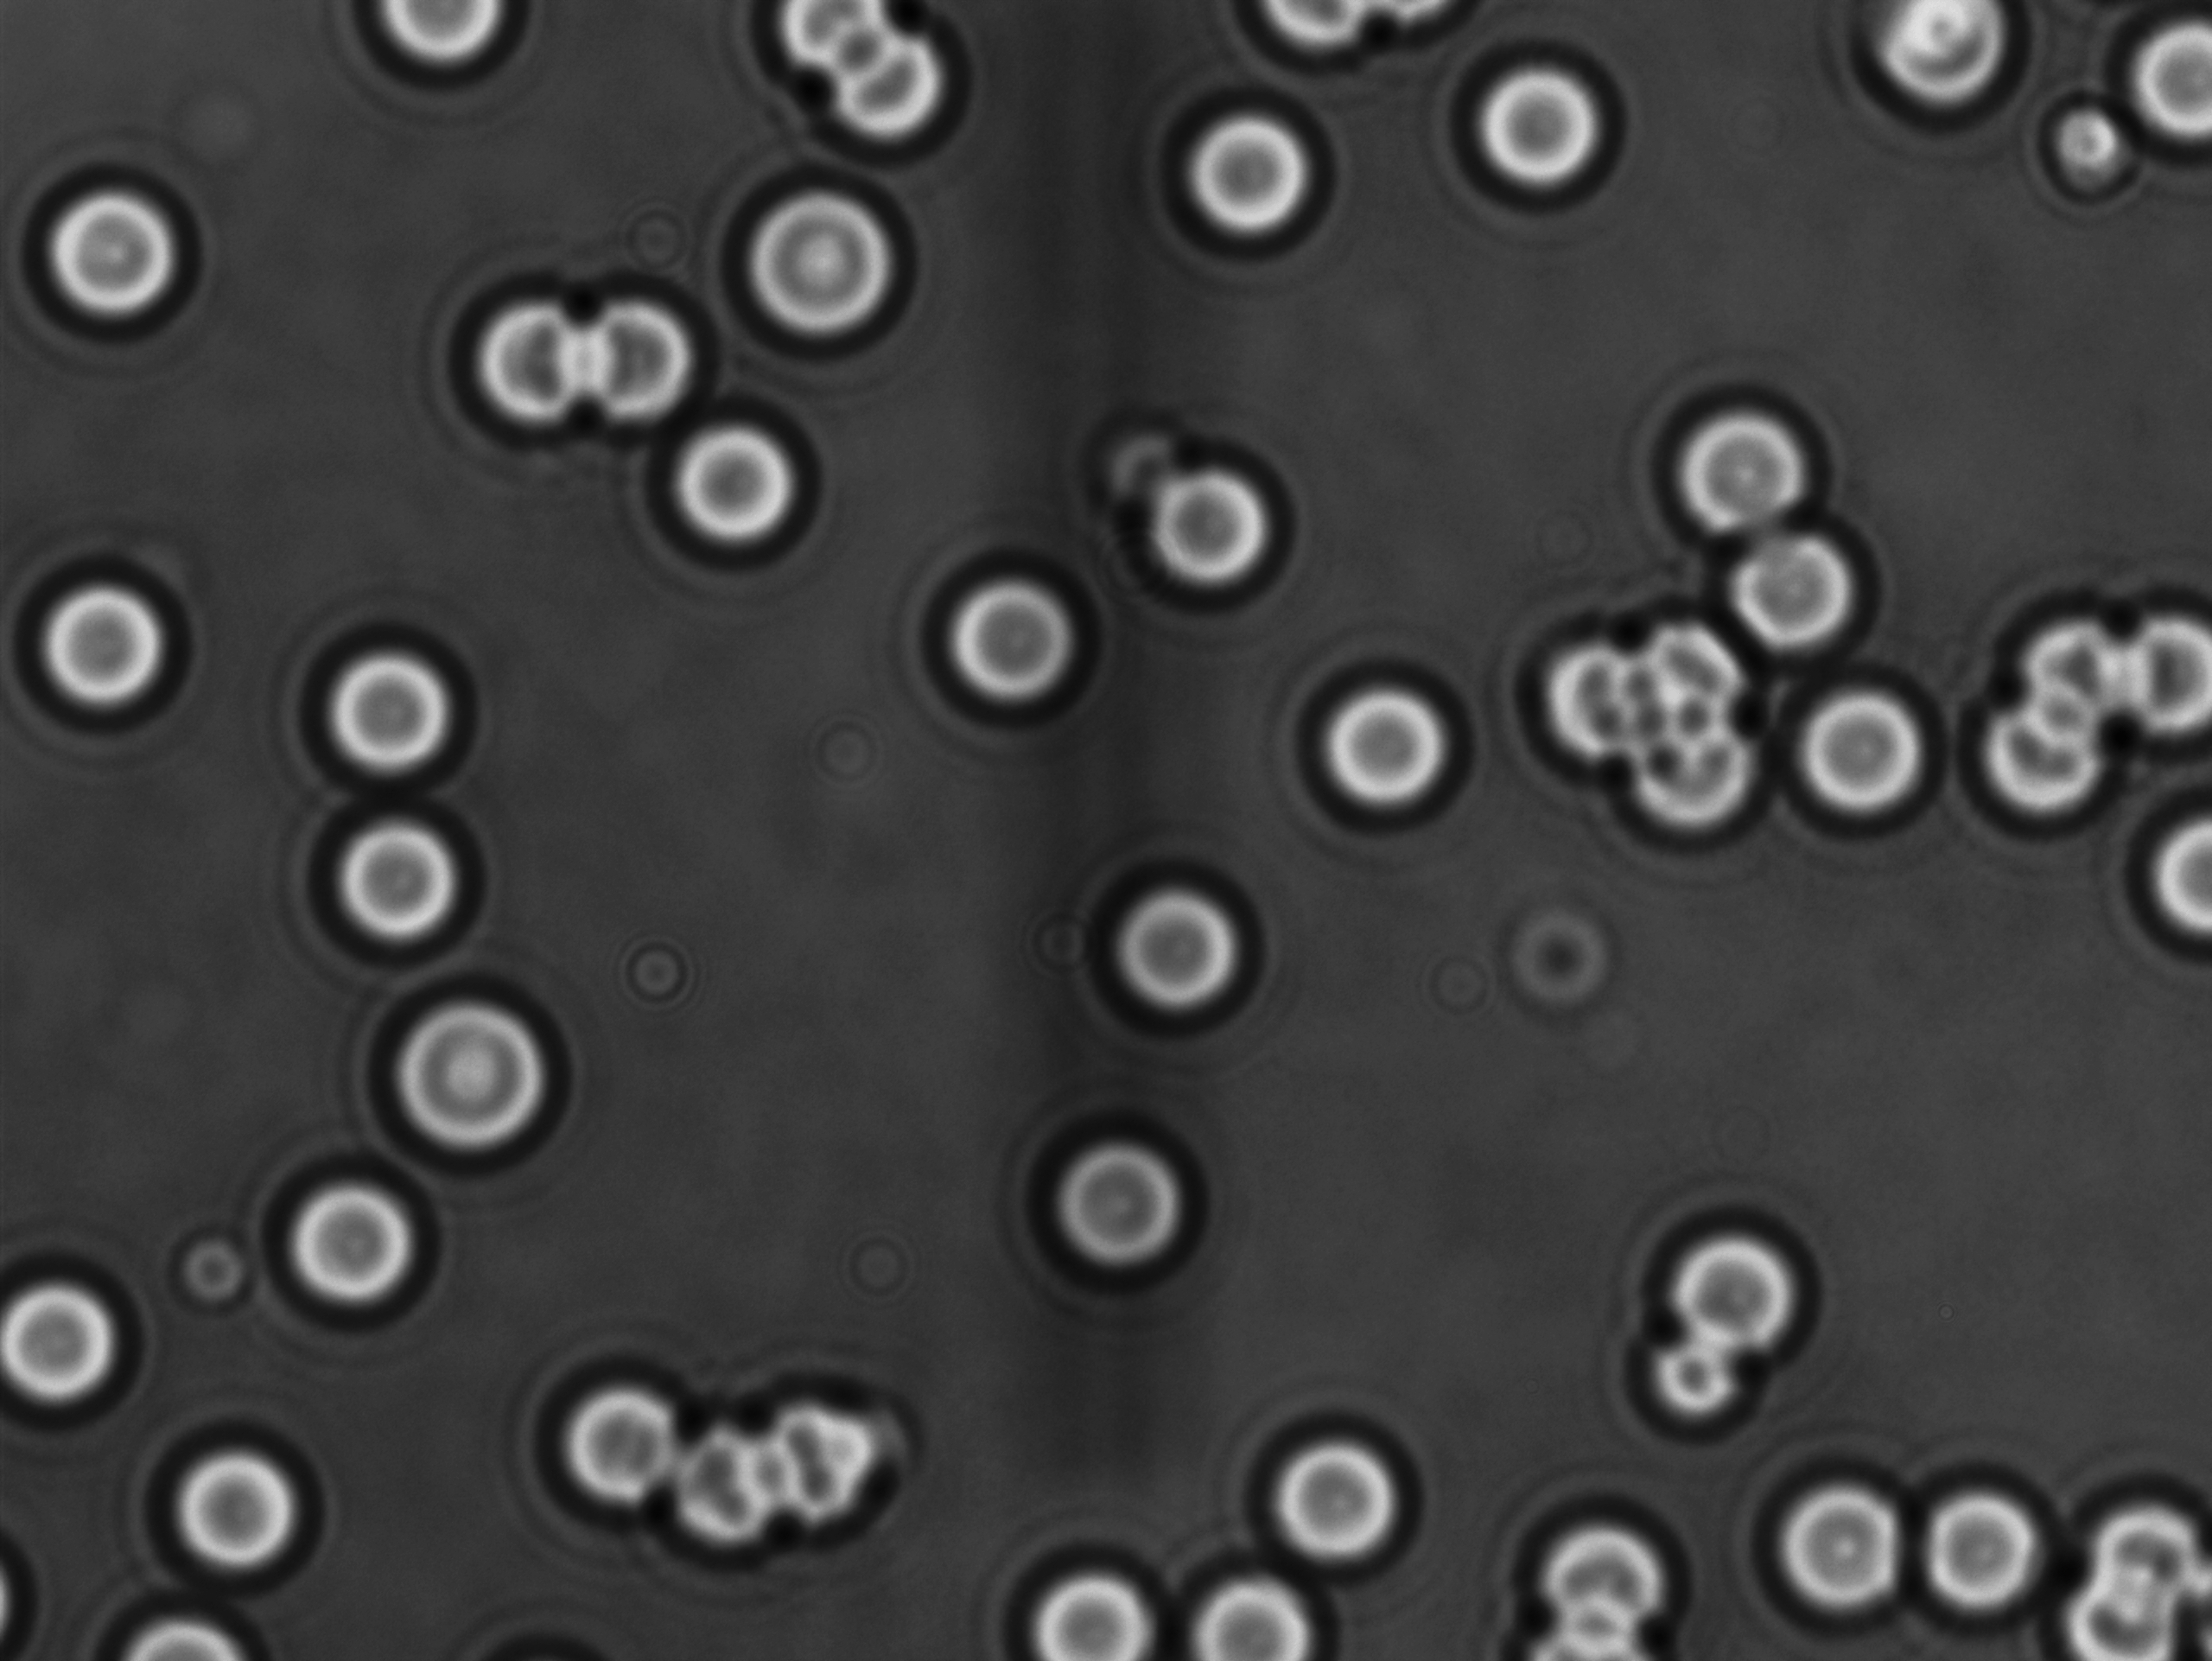depth:60: (420, 244, 621, 459), (912, 536, 1118, 738), (249, 1138, 466, 1328), (21, 148, 234, 338), (626, 389, 839, 578), (733, 159, 932, 356), (1628, 1190, 1840, 1371), (1096, 440, 1307, 621), (370, 991, 581, 1172), (133, 1425, 344, 1607), (1129, 84, 1335, 269), (1434, 31, 1636, 218), (1748, 1445, 1929, 1652), (558, 249, 745, 450), (1903, 1436, 2097, 1626), (1642, 370, 1840, 553), (1287, 658, 1493, 830), (1697, 504, 1905, 675), (1781, 653, 1964, 844), (302, 782, 497, 961), (297, 625, 497, 796), (529, 1350, 712, 1537), (9, 558, 197, 738), (1036, 1101, 1214, 1286), (1239, 1420, 1434, 1584), (1099, 860, 1277, 1038), (994, 1535, 1185, 1661), (1176, 1537, 1364, 1661), (2106, 0, 2212, 178)
